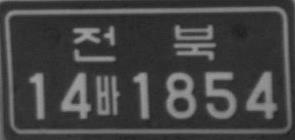1: (127, 70, 158, 119), (23, 72, 54, 120)
4: (246, 71, 278, 120), (60, 72, 91, 118)
5: (204, 70, 237, 119)
8: (165, 71, 198, 120)
바: (94, 74, 121, 115)
전북_D: (73, 24, 217, 62)
